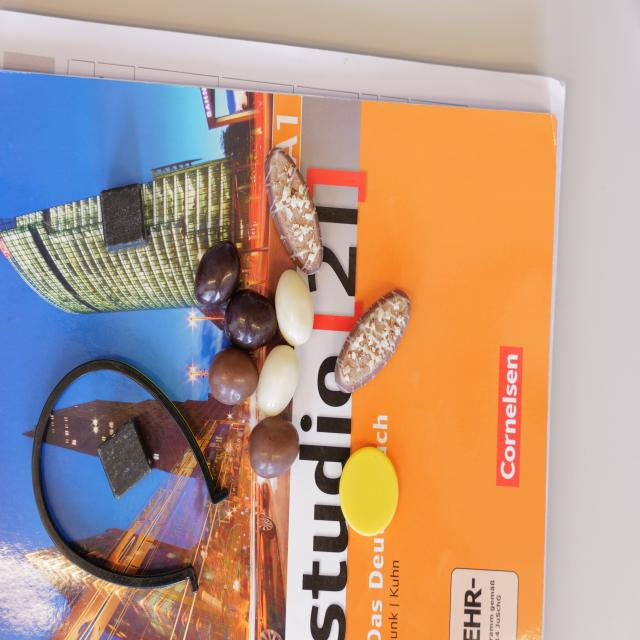Amandina: (334, 288, 410, 393), (264, 146, 323, 274)
Jelly_Black: (226, 291, 278, 347), (196, 240, 240, 305)
Jelly_Milk: (248, 414, 299, 478), (210, 349, 260, 402)
Jelly_White: (276, 269, 315, 347), (257, 346, 298, 416)
